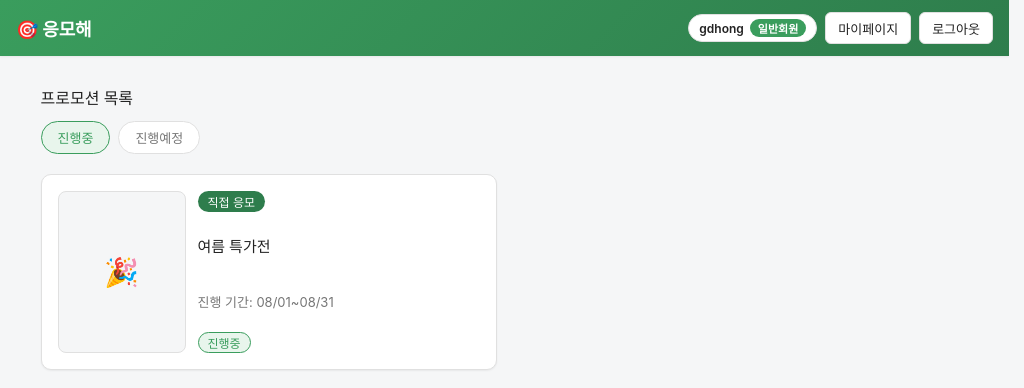
Test: PromotionList › 선택한 상태에 해당하는 프로모션이 없으면 안내 문구를 보여준다
Check: the heading "여름 특가전" is shown, box [198, 237, 270, 256]
Click the button "진행예정".
click(159, 138)  # box [118, 121, 200, 154]
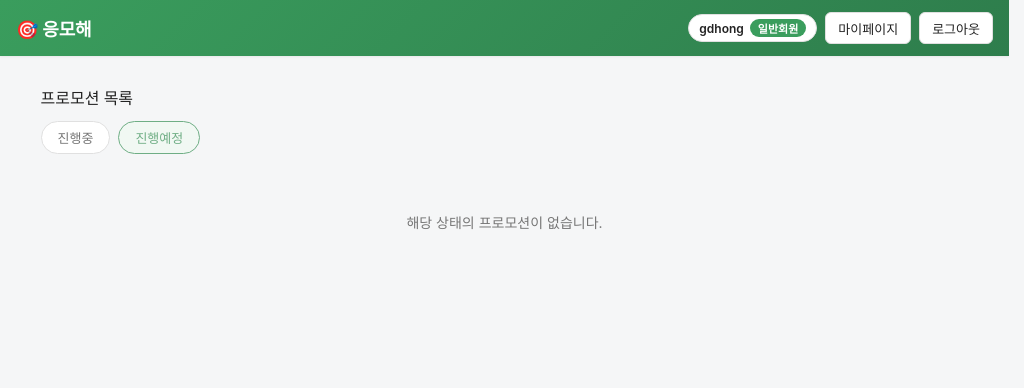
Check: the text "해당 상태의 프로모션이 없습니다." is shown, box [406, 214, 603, 231]
